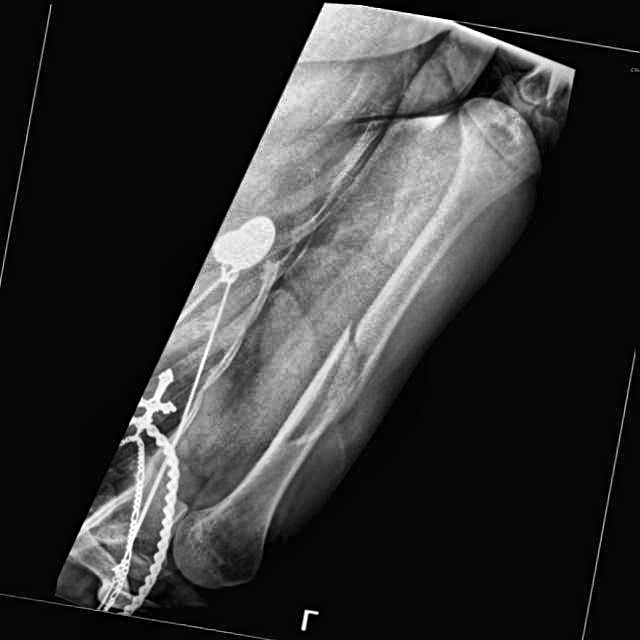Spiral: (297, 306, 385, 440)
